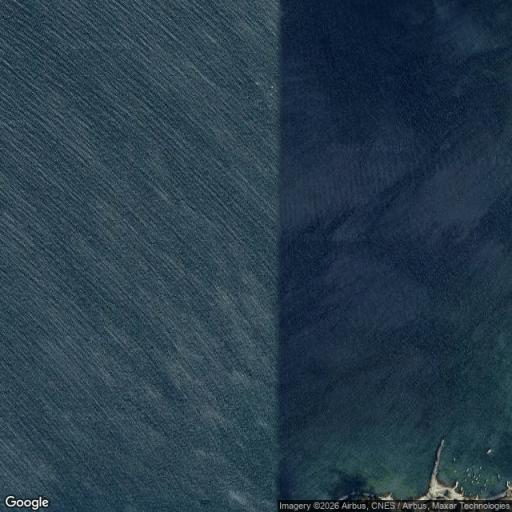ship: (484, 446, 494, 456), (494, 472, 502, 480), (460, 482, 465, 492), (450, 456, 457, 463), (452, 468, 457, 475), (473, 474, 477, 482), (464, 466, 469, 472), (482, 482, 487, 488), (479, 466, 484, 471), (470, 479, 475, 484), (486, 478, 490, 484), (466, 474, 472, 477), (478, 474, 482, 478), (463, 478, 467, 482), (476, 481, 479, 485)
